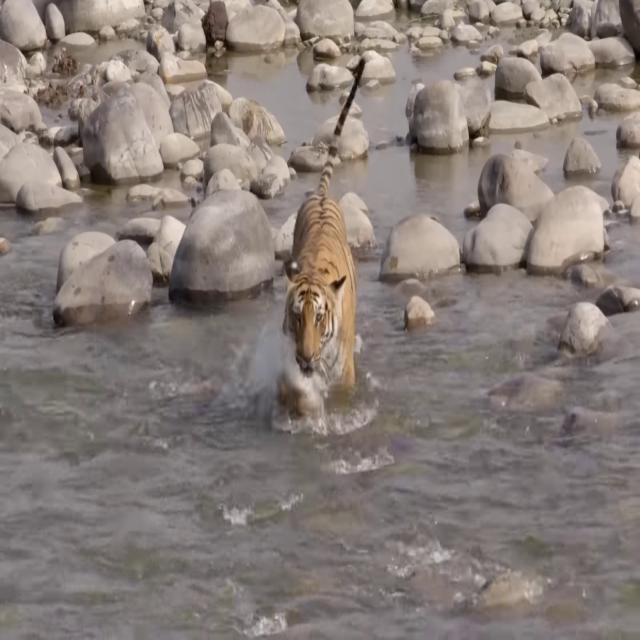tiger: (282, 56, 366, 415)
